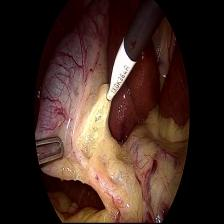Grasper: (34, 134, 68, 169)
Hook: (105, 37, 137, 101)
